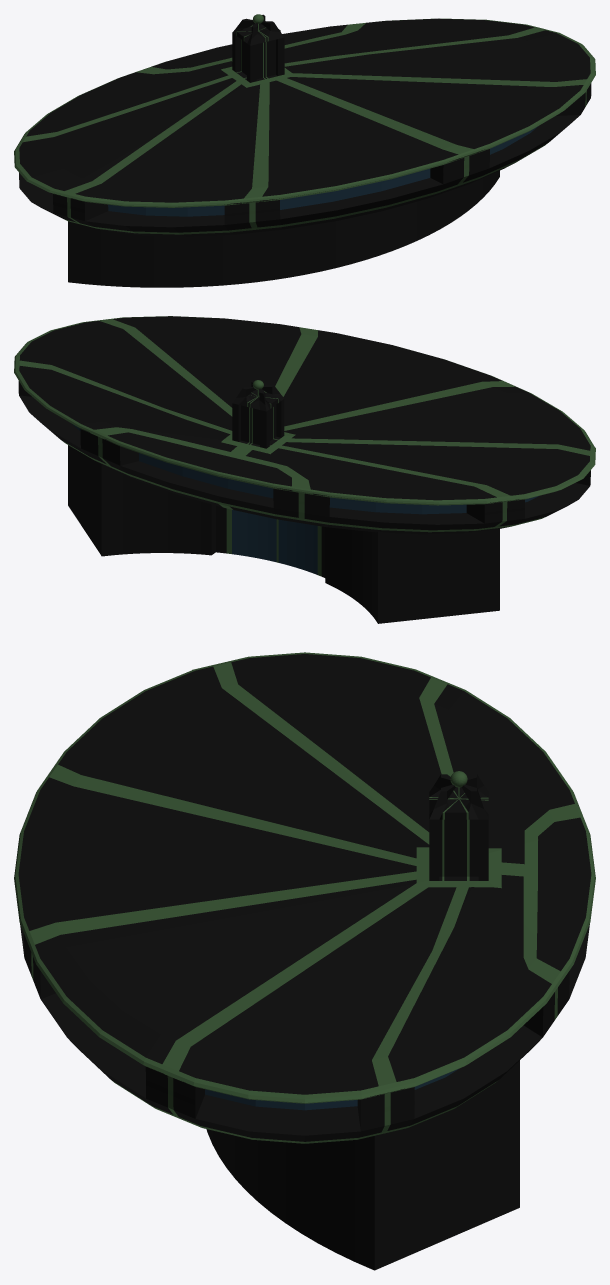
The picture shows the model from 3 angles, top to bottom: view 1: azimuth 30°, elevation 25°; view 2: azimuth 150°, elevation 25°; view 3: azimuth 270°, elevation 25°; orthographic projection. The views are drawn at different scales.
Visible parts, largest first — view 1: Building; view 2: Building; view 3: Building.
Part boxes in pixels (x1=…): Building: x1=14, y1=14, x2=595, y2=287; Building: x1=14, y1=316, x2=595, y2=623; Building: x1=14, y1=652, x2=595, y2=1270.
Bounding box in the file's own units: 1788 × 602 × 979.
